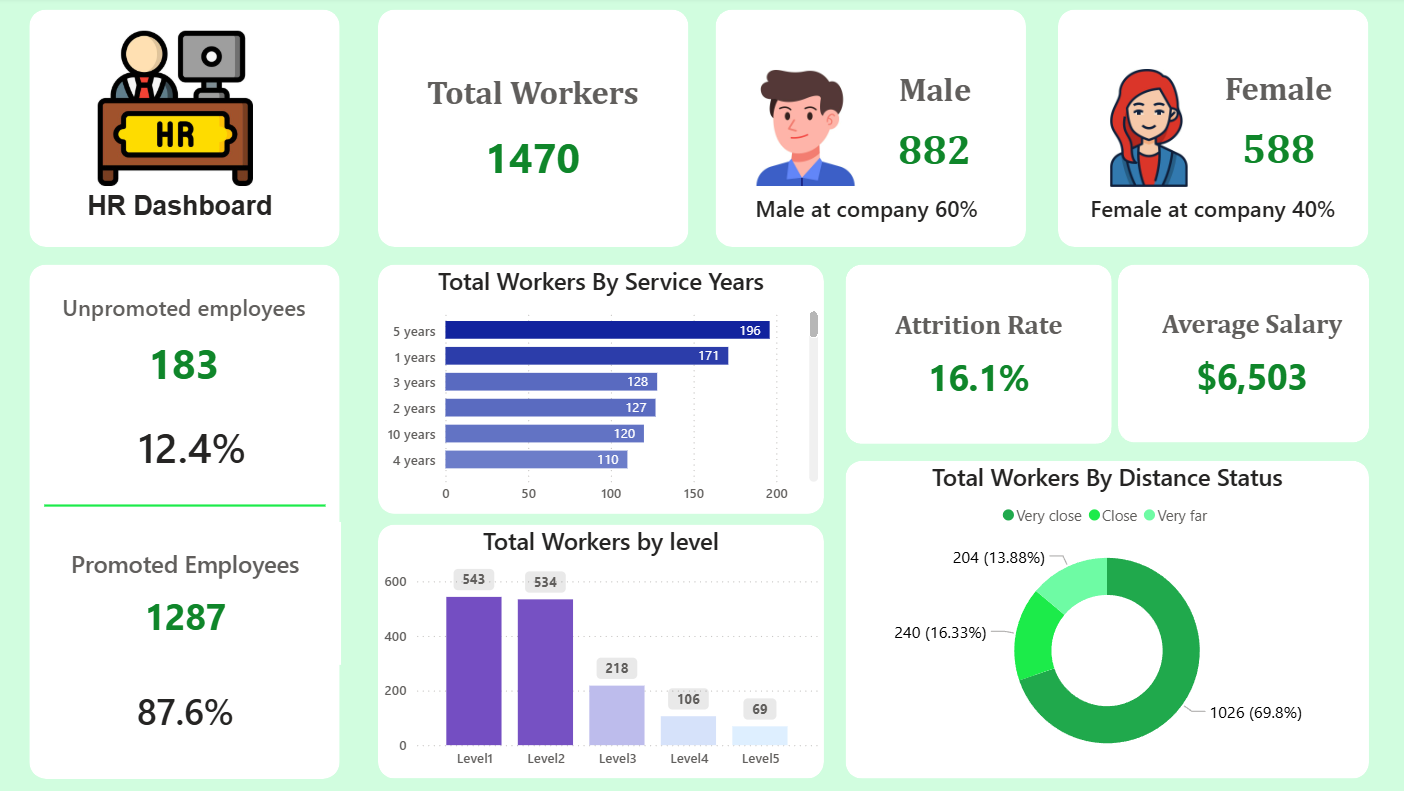

Layout of this report page (visuals, bound fields, positions):
{"tool":"powerbi","page":{"name":"Page 1","canvas":[1280,720],"ordinal":0},"visuals":[{"type":"shape","box":[32.9,11,279.9,214.1],"z":0},{"type":"shape","box":[347.2,11,279.9,214.1],"z":1000},{"type":"shape","box":[960.6,11,279.9,214.1],"z":2000},{"type":"shape","box":[651.8,11,279.9,214.1],"z":3000},{"type":"shape","box":[32.9,241.5,279.9,463.8],"z":4000},{"type":"shape","box":[347.2,241.5,402.1,225],"z":5000},{"type":"shape","box":[347.2,476.2,402.1,229.2],"z":6000},{"type":"shape","box":[768.4,241.5,240.1,161.9],"z":7000},{"type":"shape","box":[1014.1,241.5,226.4,160.5],"z":8000},{"type":"textbox","box":[79.6,170.2,220.9,38.4],"z":9000},{"type":"image","box":[79.6,30.2,168.8,140],"z":10000},{"type":"shape","box":[768.4,418.5,472,286.8],"z":11000},{"type":"cardVisual","fields":{"Data":["table1.Measure"]},"box":[347.2,11,279.9,214.1],"z":12000},{"type":"cardVisual","fields":{"Data":["table1.male_count"]},"box":[651.8,11,279.9,214.1],"z":13000},{"type":"cardVisual","fields":{"Data":["table1.female_count"]},"box":[960.6,11,279.9,214.1],"z":14000},{"type":"cardVisual","fields":{"Data":["table1.male %"]},"box":[658.7,153.7,273.1,71.4],"z":15000},{"type":"cardVisual","fields":{"Data":["table1.Female %"]},"box":[960.6,153.7,288.2,71.4],"z":16000},{"type":"cardVisual","fields":{"Data":["table1.unpromoted_count"]},"box":[32.9,241.5,279.9,137.2],"z":17000},{"type":"cardVisual","fields":{"Data":["table1.promoted_count"]},"box":[34.3,473.4,279.9,129],"z":18000},{"type":"cardVisual","fields":{"Data":["table1.un_e"]},"box":[46.7,363.6,267.6,81],"z":19000},{"type":"shape","box":[46.7,440.5,253.9,35.7],"z":20000},{"type":"cardVisual","fields":{"Data":["table1.pr_e"]},"box":[34.3,602.4,279.9,81],"z":21000},{"type":"clusteredBarChart","title":"Total Workers By Service Years","fields":{"Category":["HR Analytics Data.new years worked"],"Y":["table1.total_workers"]},"box":[347.2,241.5,402.1,225],"z":22000},{"type":"columnChart","title":"Total Workers by level","fields":{"Category":["HR Analytics Data.new_level"],"Y":["table1.total_workers"]},"box":[347.2,476.2,402.1,229.2],"z":23000},{"type":"cardVisual","fields":{"Data":["Sum(HR Analytics Data.Attrition Rate)"]},"box":[768.4,241.5,240.1,161.9],"z":24000},{"type":"cardVisual","fields":{"Data":["table1.Average Salary"]},"box":[1022.3,241.5,226.4,160.5],"z":25000},{"type":"donutChart","title":"Total Workers By Distance Status","fields":{"Category":["HR Analytics Data.Distance Status"],"Y":["table1.total_workers"]},"box":[768.4,418.5,472,284],"z":26000}]}

Visuals, with their boxes in screenshot pixels (x1, y1, x2, y2), scaled from the page's 1280x720 canvas onto the 1404x791 screenshot:
shape: [36, 12, 343, 247]
shape: [381, 12, 688, 247]
shape: [1054, 12, 1361, 247]
shape: [715, 12, 1022, 247]
shape: [36, 265, 343, 775]
shape: [381, 265, 822, 513]
shape: [381, 523, 822, 775]
shape: [843, 265, 1106, 443]
shape: [1112, 265, 1361, 442]
textbox: [87, 187, 330, 229]
image: [87, 33, 272, 187]
shape: [843, 460, 1361, 775]
cardVisual - table1.Measure: [381, 12, 688, 247]
cardVisual - table1.male_count: [715, 12, 1022, 247]
cardVisual - table1.female_count: [1054, 12, 1361, 247]
cardVisual - table1.male %: [723, 169, 1022, 247]
cardVisual - table1.Female %: [1054, 169, 1370, 247]
cardVisual - table1.unpromoted_count: [36, 265, 343, 416]
cardVisual - table1.promoted_count: [38, 520, 345, 662]
cardVisual - table1.un_e: [51, 399, 345, 488]
shape: [51, 484, 330, 523]
cardVisual - table1.pr_e: [38, 662, 345, 751]
"Total Workers By Service Years" clusteredBarChart: [381, 265, 822, 513]
"Total Workers by level" columnChart: [381, 523, 822, 775]
cardVisual - Sum(HR Analytics Data.Attrition Rate): [843, 265, 1106, 443]
cardVisual - table1.Average Salary: [1121, 265, 1370, 442]
"Total Workers By Distance Status" donutChart: [843, 460, 1361, 772]
